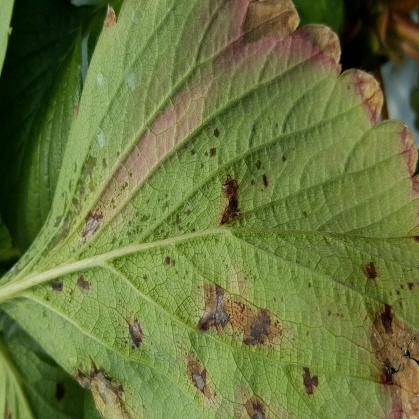Angular Leafspot: (0, 0, 418, 418)
